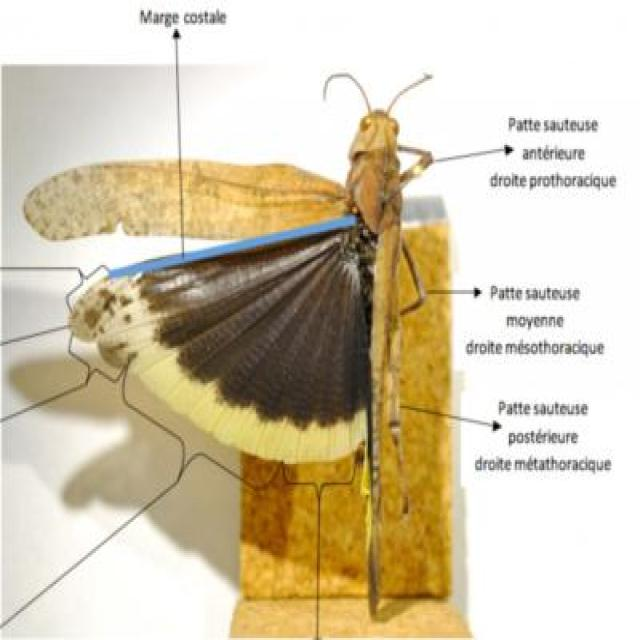antennae: (322, 75, 372, 111), (388, 76, 432, 111)
body: (355, 111, 397, 494)
insect: (13, 75, 433, 616)
legs: (402, 239, 424, 324), (396, 142, 428, 189)
wings: (23, 168, 361, 464)
